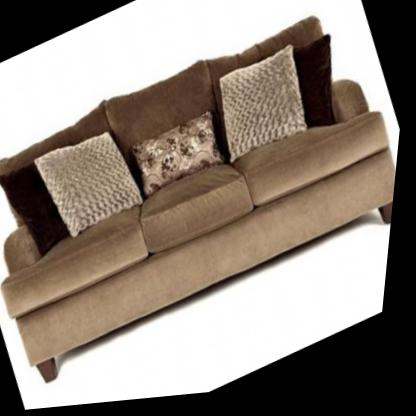Sofa: (0, 0, 414, 397)
